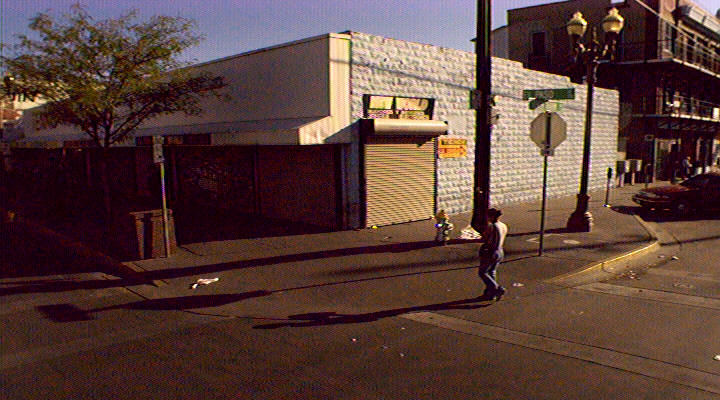Ramp: (145, 239, 599, 324)
